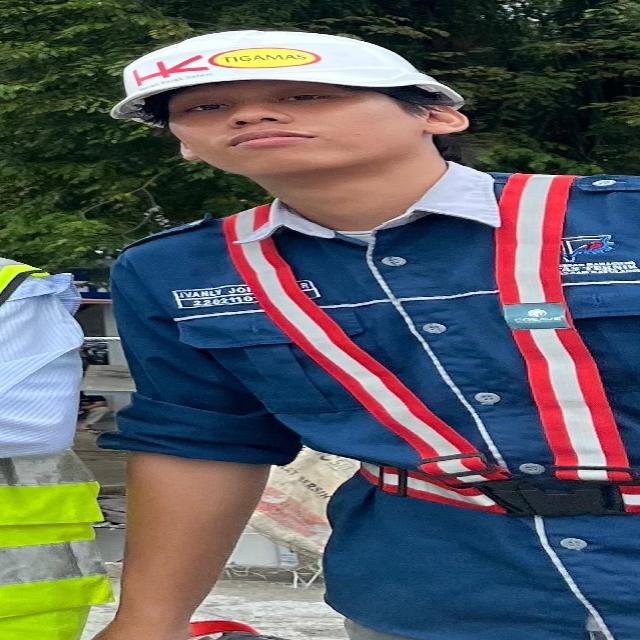safetyhelmet: (80, 26, 506, 172)
